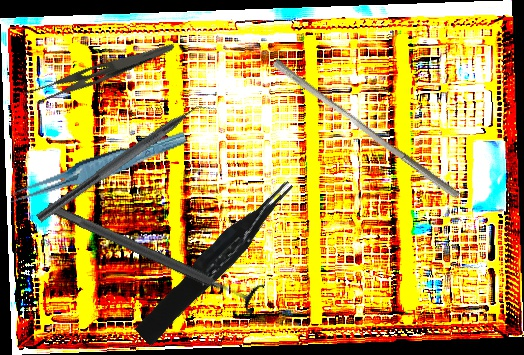Chopper: (35, 92, 219, 235)
Dressing Forceps: (21, 26, 177, 115)
Fixation Ring: (40, 189, 266, 318)
Pusher: (267, 58, 466, 200)
Tissue Forceps: (127, 176, 307, 347), (3, 130, 191, 206)
